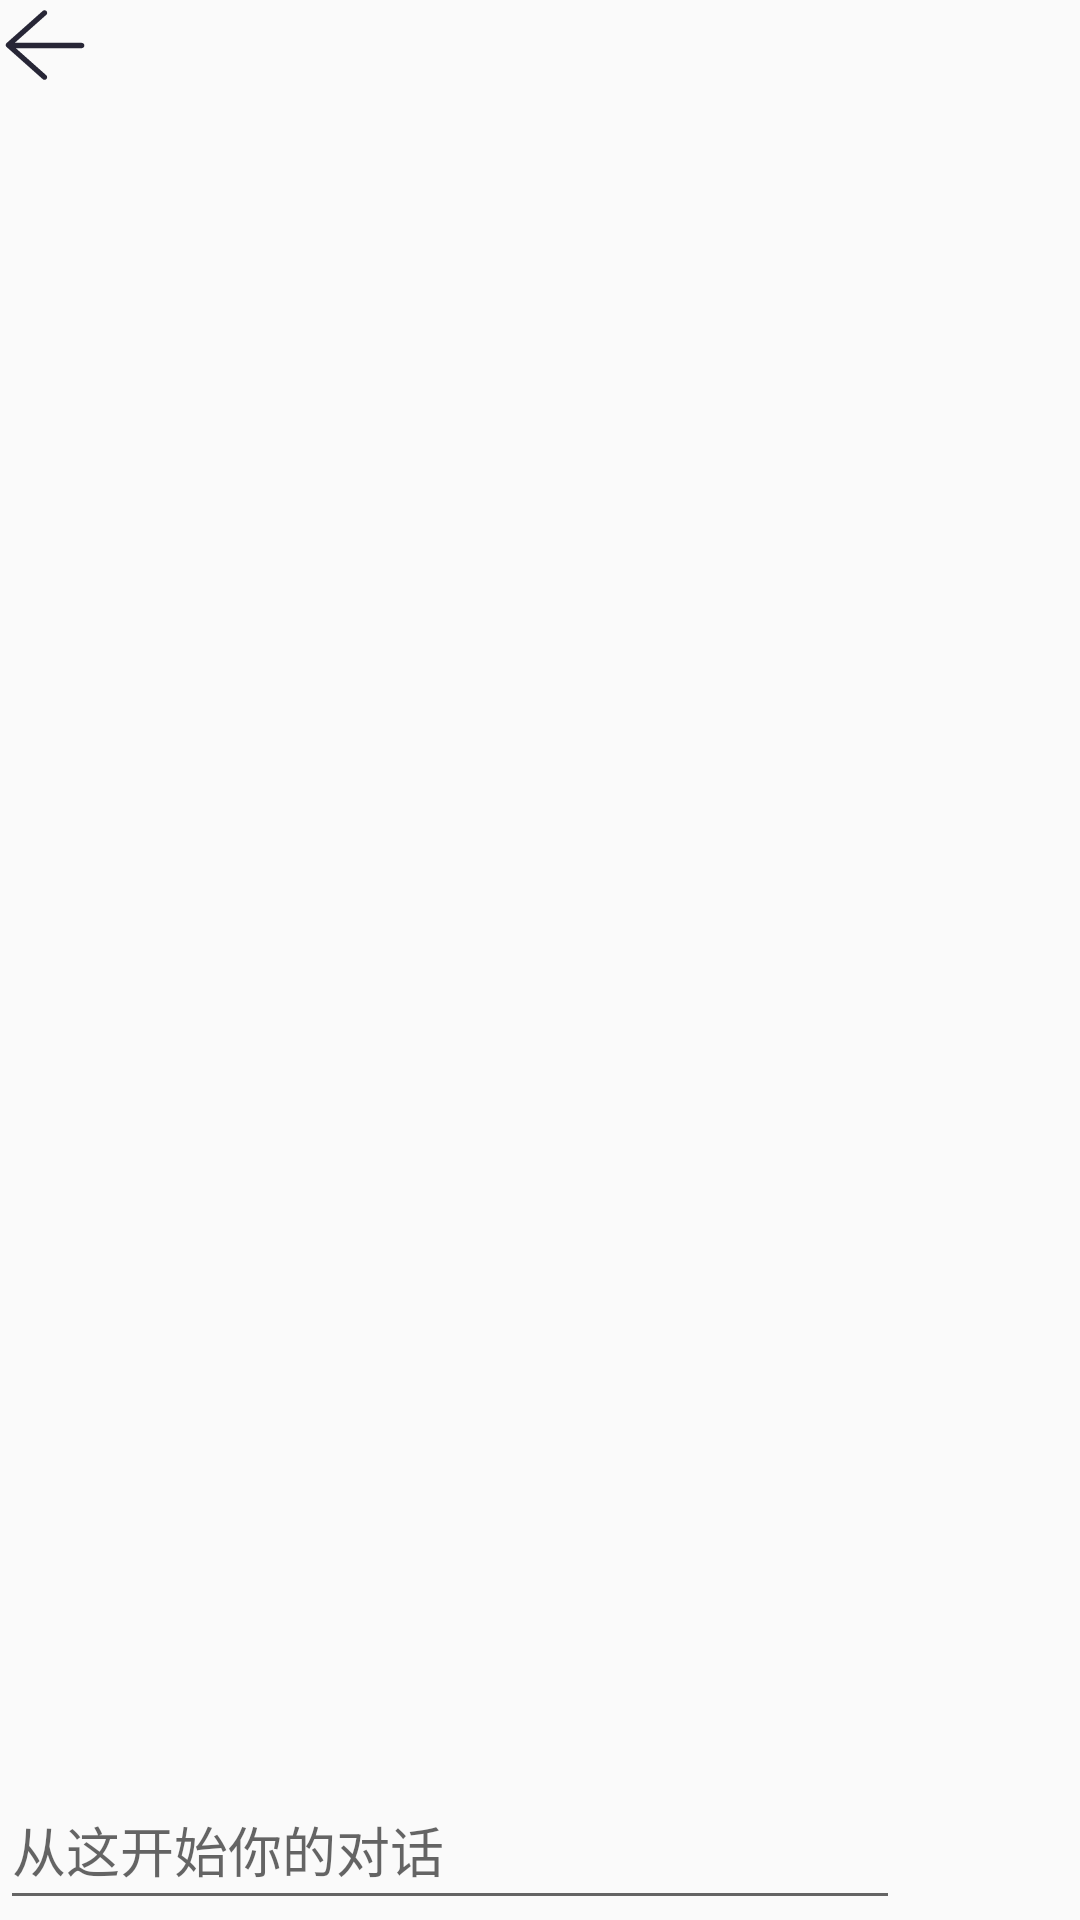

Screen size 1080px x 1920px. Icon name, then its center in pixels as (x,y):
back: (45,45)
